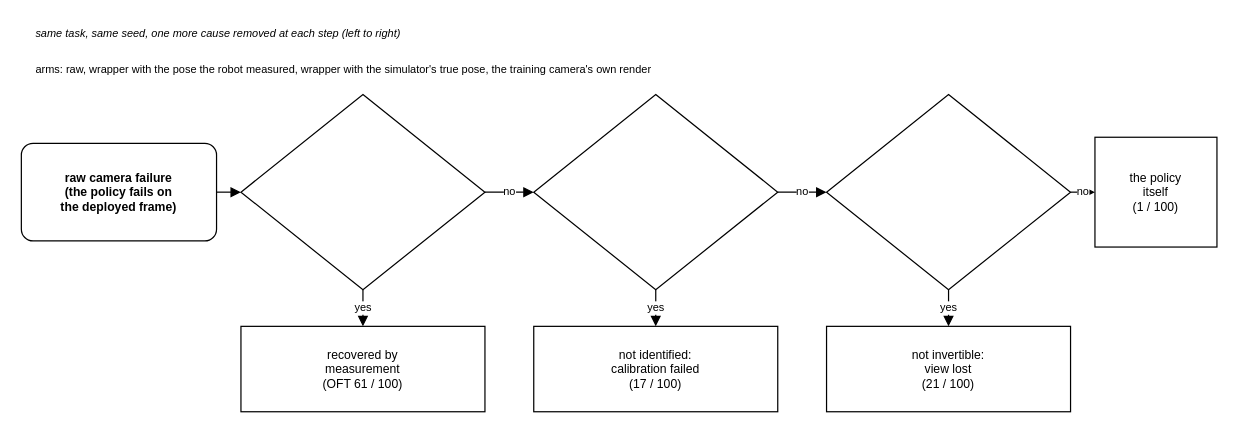
Image size: 1238x433. Some labels were removed from this diagram. The shapes that lost their labels are listed below. From the top down, each one's centre as x and y in pixels, then its label:
pixel 362 191: measured pose repairs?
pixel 655 191: true pose repairs?
pixel 948 191: perfect render repairs?
